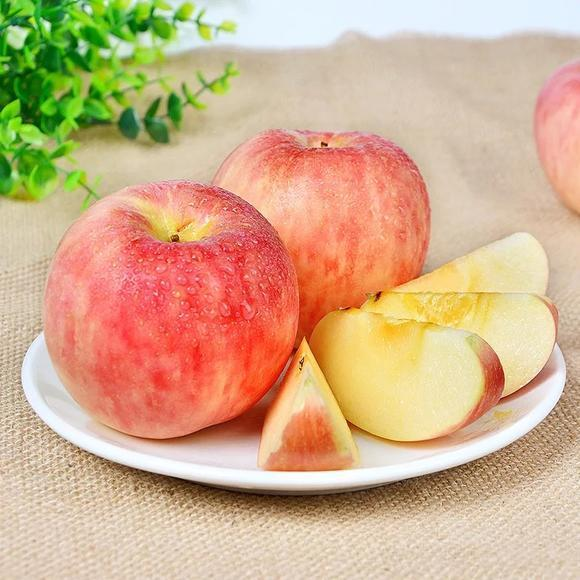apple: (36, 179, 301, 438), (209, 126, 432, 337)
